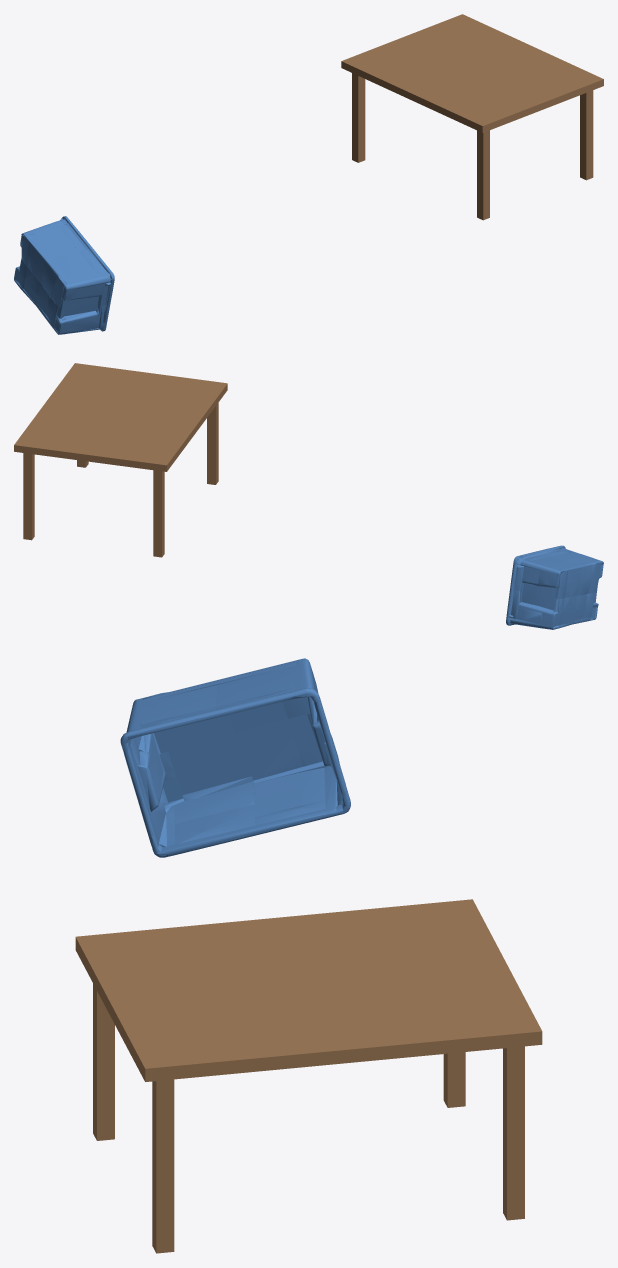
Rendered from g1_06_box_push_props.glb.
The picture shows the model from 3 angles, top to bottom: view 1: azimuth 30°, elevation 25°; view 2: azimuth 150°, elevation 25°; view 3: azimuth 270°, elevation 25°; orthographic projection. The views are drawn at different scales.
Visible parts, largest first — view 1: s000, s003, s002, s001, o00_p22, o00_p19, o00_p67, o00_p27; view 2: s000, s002, s004, s001, o00_p83, o00_p84, o00_p04; view 3: s000, s003, s004, s001, o00_p00, o00_p15, o00_p32, o00_p22, o00_p12, o00_p11, o00_p19, o00_p08 (+7 smaller).
Boxes of the visible parts, box(x1,y1,x2,y2) form: s000: box(341, 14, 603, 132); s003: box(580, 90, 593, 180); s002: box(352, 73, 365, 162); s001: box(477, 130, 489, 220); o00_p22: box(32, 226, 78, 258); o00_p19: box(52, 251, 96, 282); o00_p67: box(63, 296, 98, 316); o00_p27: box(64, 315, 100, 333); s000: box(14, 363, 227, 471); s002: box(153, 470, 164, 557); s004: box(23, 453, 34, 540); s001: box(207, 403, 218, 484); o00_p83: box(521, 583, 556, 610); o00_p84: box(517, 607, 551, 626); o00_p04: box(564, 568, 581, 597); s000: box(75, 899, 542, 1081); s003: box(152, 1079, 174, 1253); s004: box(503, 1046, 524, 1220); s001: box(93, 983, 114, 1140); o00_p00: box(237, 719, 302, 780); o00_p15: box(254, 767, 325, 817); o00_p32: box(198, 733, 251, 786); o00_p22: box(216, 665, 295, 706); o00_p12: box(174, 781, 254, 824); o00_p11: box(174, 805, 255, 844); o00_p19: box(141, 685, 217, 724); o00_p08: box(154, 809, 326, 856).
Size of the model in its own units: 3.31 by 0.7833 by 1.27.
